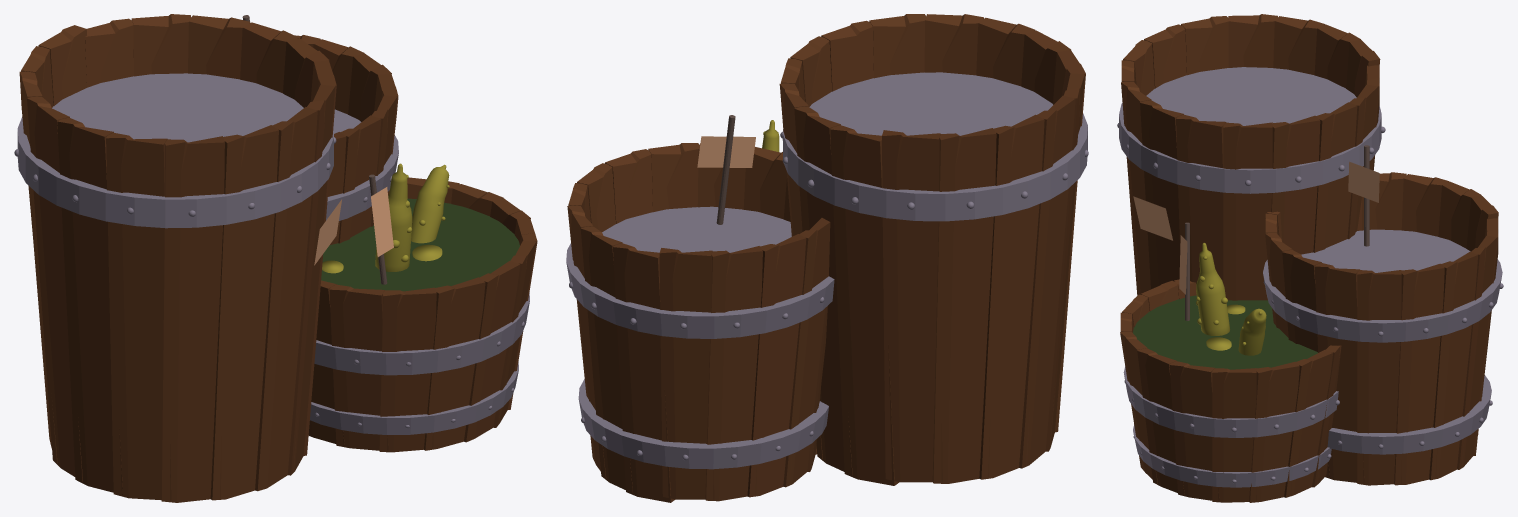
Rendered from pickelBarrels.fbx.
The picture shows the model from 3 angles, left to right: view 1: azimuth 30°, elevation 25°; view 2: azimuth 150°, elevation 25°; view 3: azimuth 270°, elevation 25°; orthographic projection. The views are drawn at different scales.
Parts seen in each view (by area): view 1: Cube.061; view 2: Cube.061; view 3: Cube.061.
Boxes of the visible parts, x1,y1,x2,y2 form: Cube.061: (14,14,537,502); Cube.061: (566,14,1088,502); Cube.061: (1117,14,1503,502).
Size of the model in its own units: 162 by 125 by 138.
